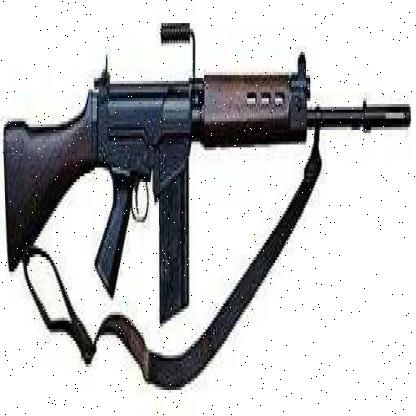rifle: (3, 32, 414, 358)
